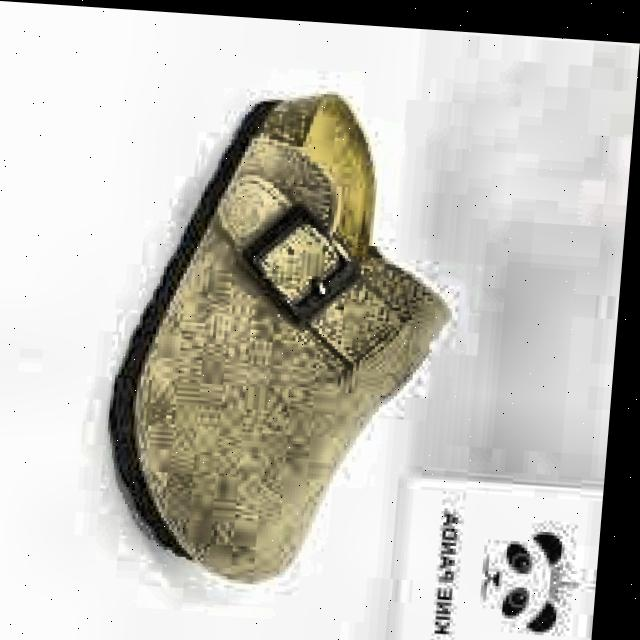shoes: (81, 60, 477, 604)
